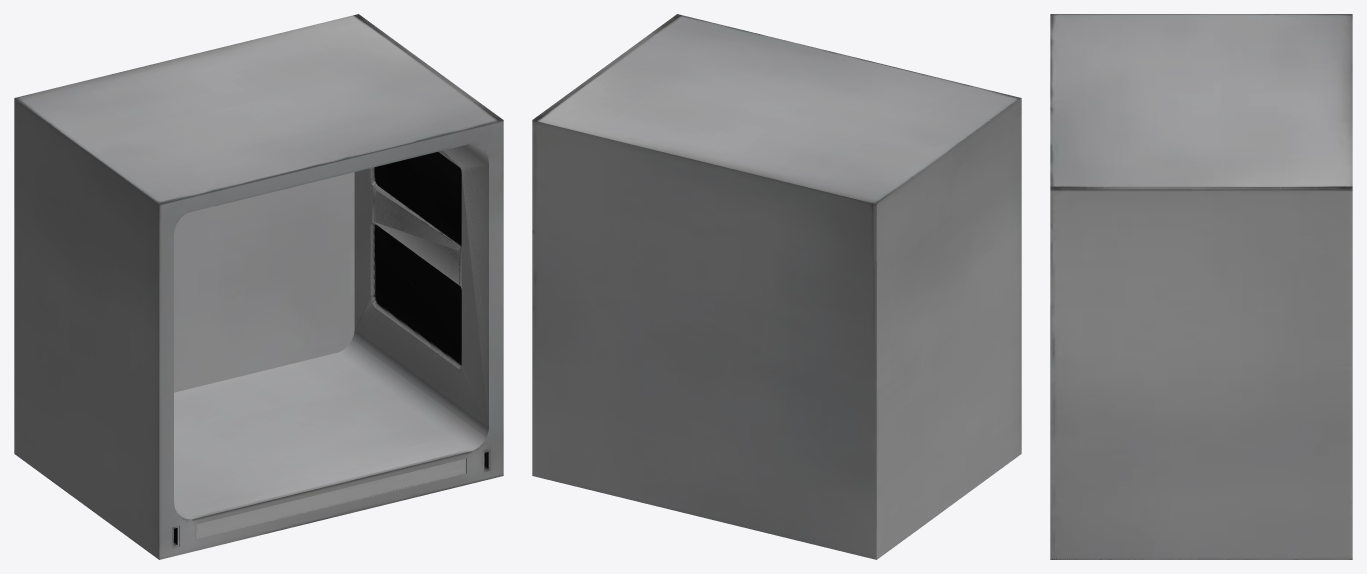
Rendered from link_0__frame-15.glb.
The picture shows the model from 3 angles, left to right: view 1: azimuth 30°, elevation 25°; view 2: azimuth 150°, elevation 25°; view 3: azimuth 270°, elevation 25°; orthographic projection. The views are drawn at different scales.
Parts seen in each view (by area): view 1: geometry_0; view 2: geometry_0; view 3: geometry_0.
Part boxes in pixels (left/top/right/bottom): geometry_0: left=14, top=14, right=503, bottom=559; geometry_0: left=532, top=14, right=1021, bottom=559; geometry_0: left=1050, top=14, right=1352, bottom=559.
Size of the model in its own units: 1.08 by 1.06 by 0.7855.
1 material, 1 textured.
